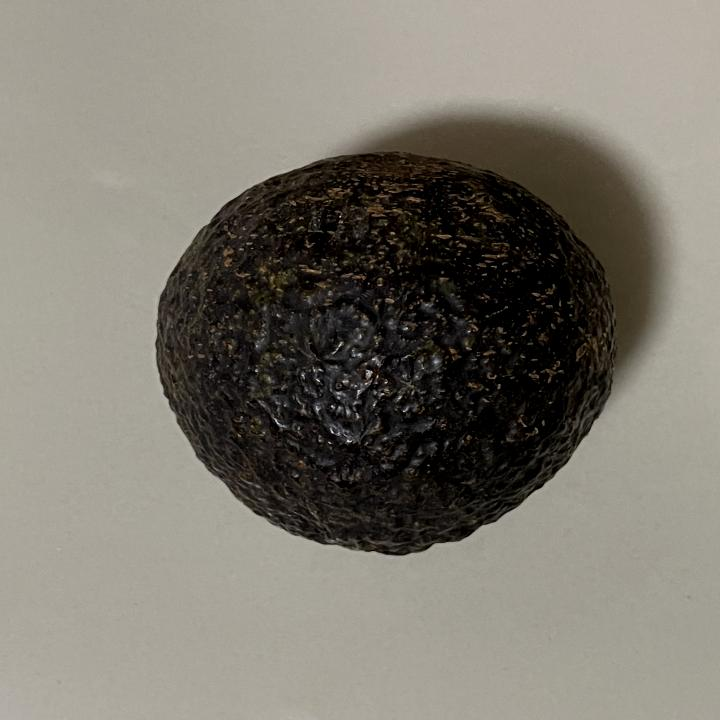Level2: (150, 147, 627, 562)
